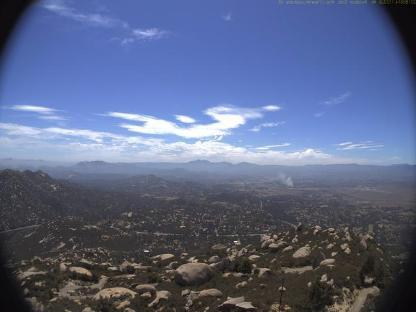smoke: (270, 165, 296, 189)
